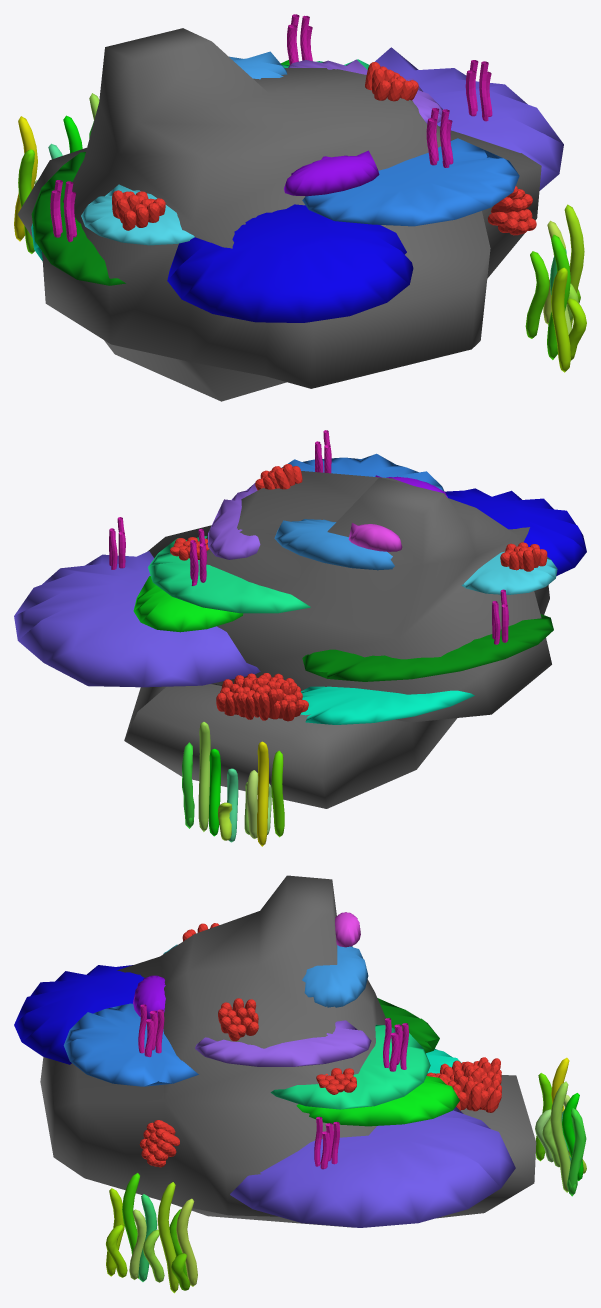
Rendered from stone_with_corals.glb.
The picture shows the model from 3 angles, top to bottom: view 1: azimuth 30°, elevation 25°; view 2: azimuth 150°, elevation 25°; view 3: azimuth 270°, elevation 25°; orthographic projection. The views are drawn at different scales.
Visible parts, largest first — view 1: Cube.016; view 2: Cube.016; view 3: Cube.016.
Boxes of the visible parts, x1,y1,x2,y2 form: Cube.016: [14, 14, 586, 401]; Cube.016: [14, 430, 586, 846]; Cube.016: [14, 875, 586, 1293].
Size of the model in its own units: 17.55 by 9.68 by 18.79.
